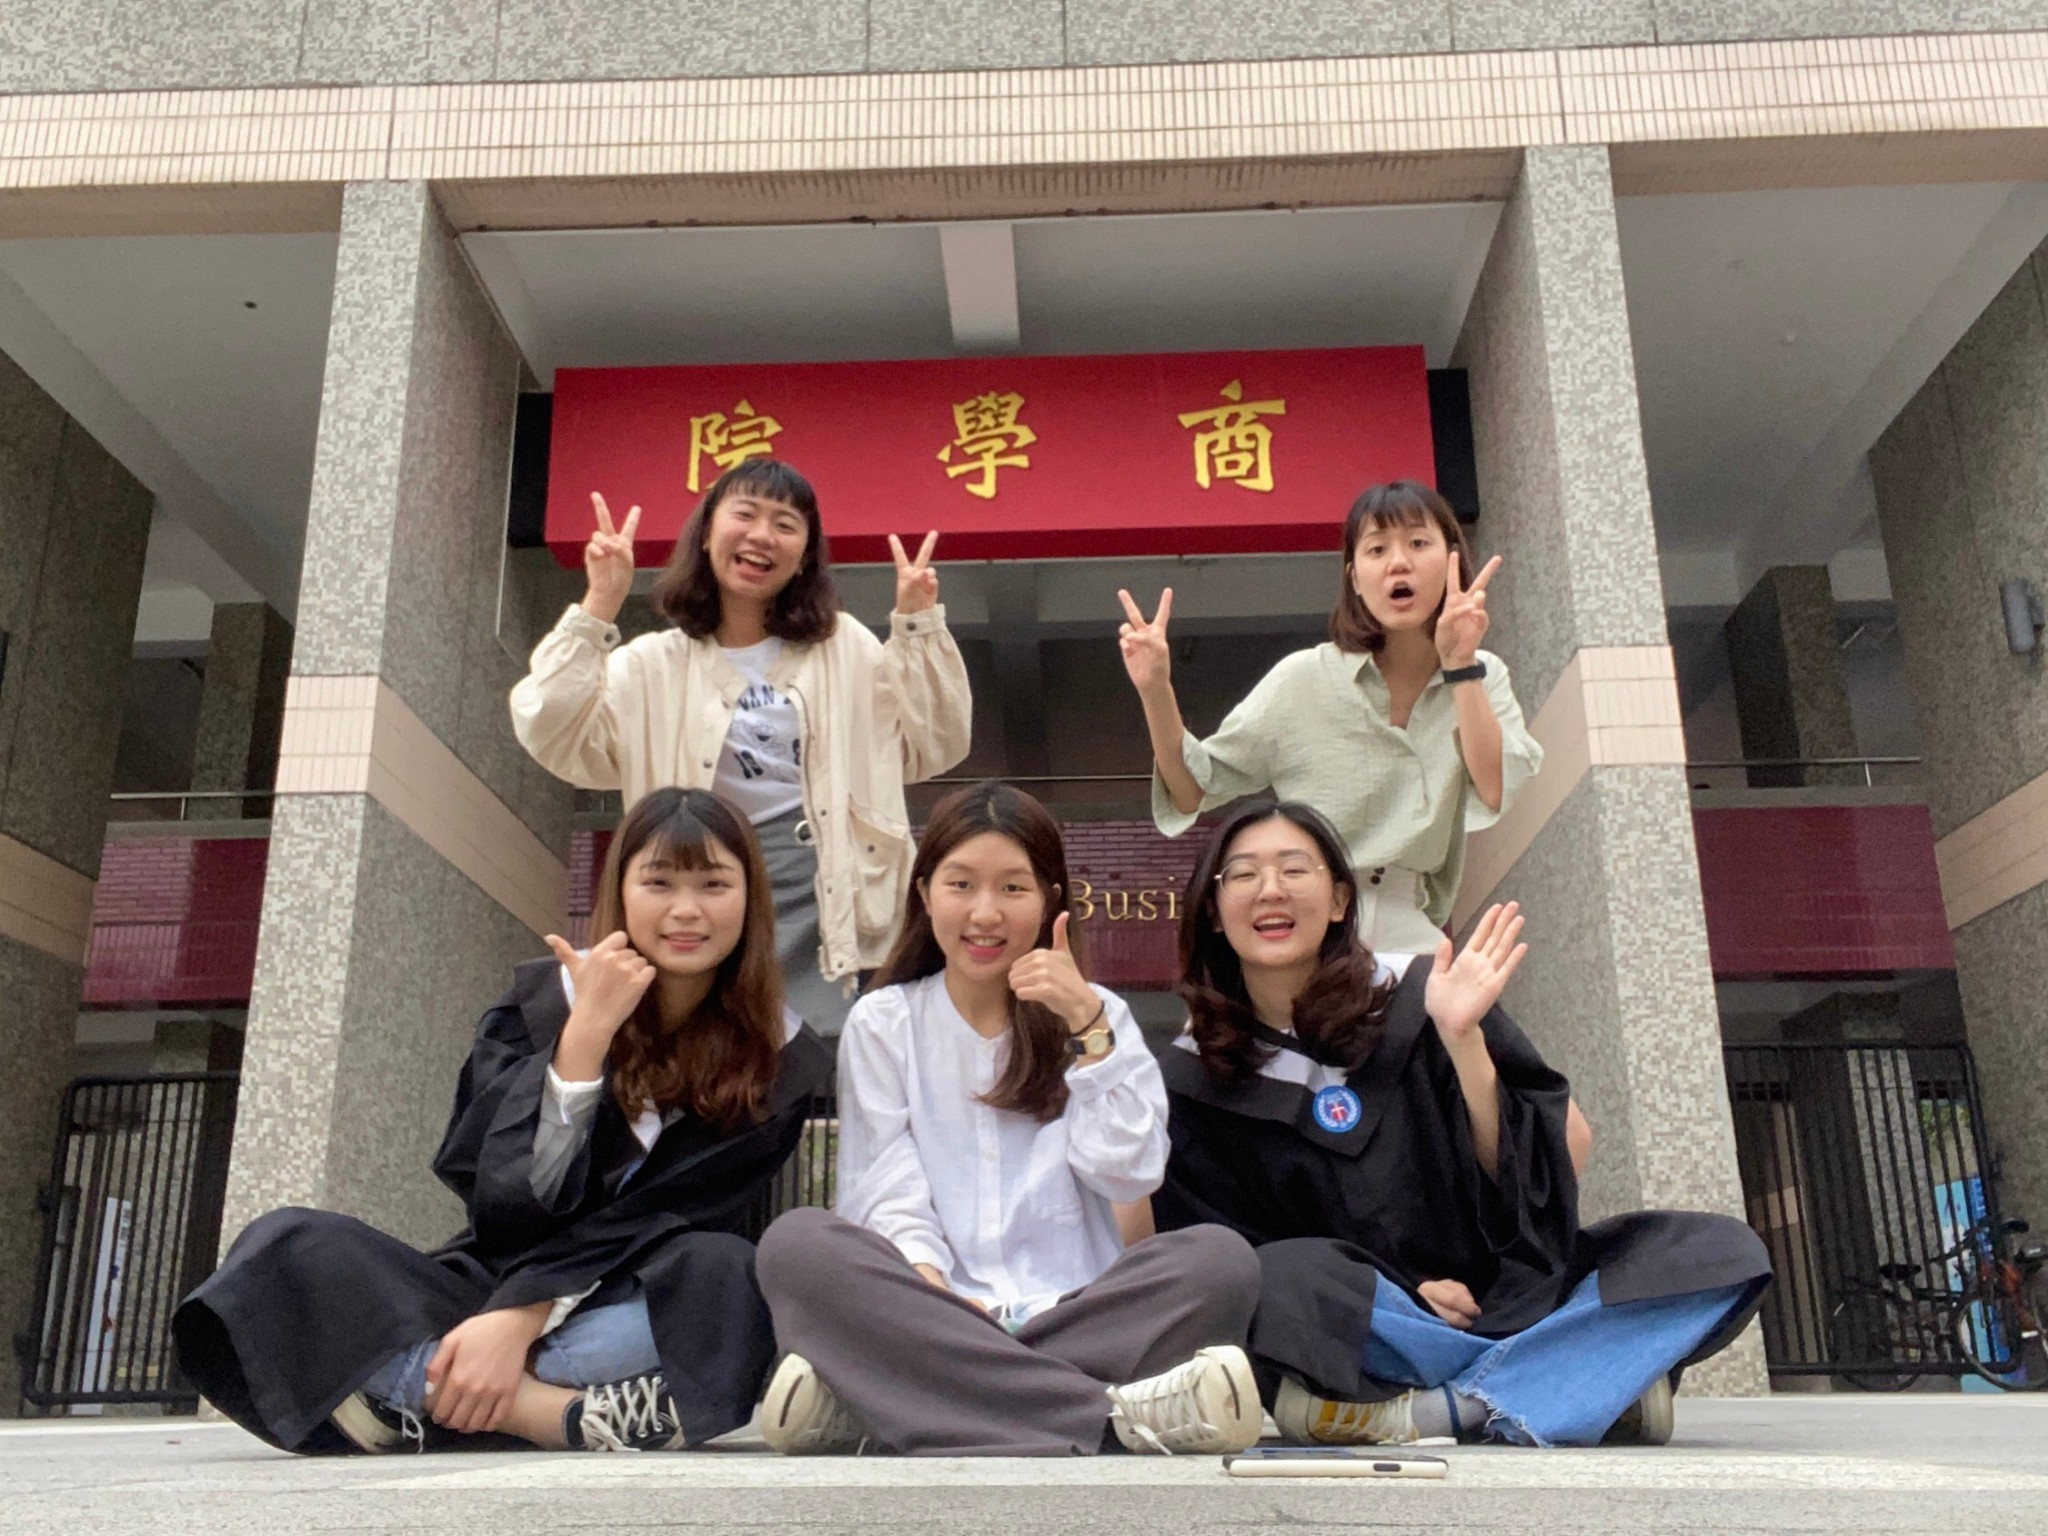people: (1166, 796, 1716, 1422), (343, 816, 763, 1446), (825, 822, 1222, 1455), (616, 469, 913, 1240), (1254, 481, 1510, 1166)
